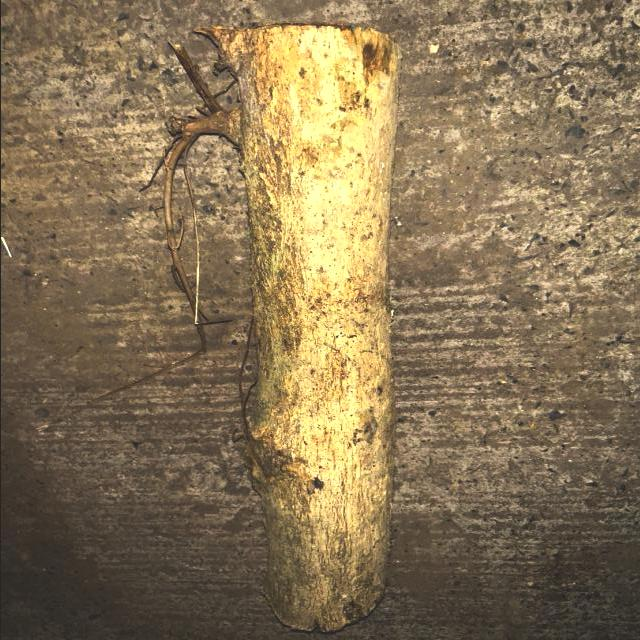General: (1, 2, 640, 638)
Infectious: (166, 22, 403, 634)
Sharps: (1, 234, 14, 261)
